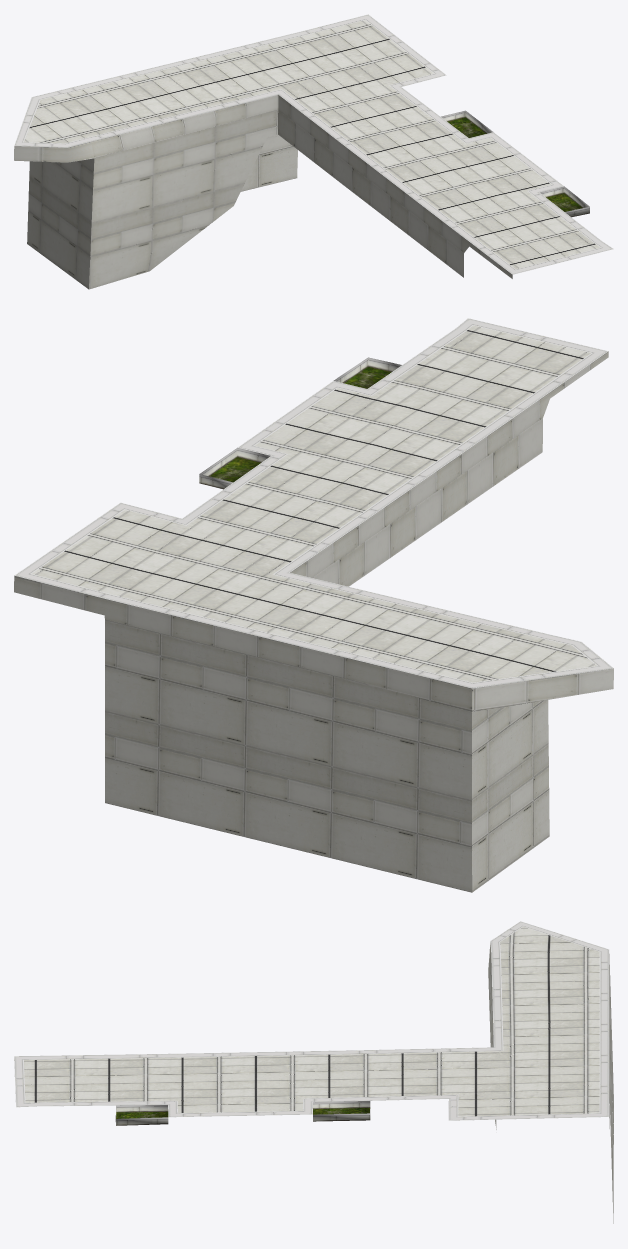
File: STA20_34.FBX
The picture shows the model from 3 angles, top to bottom: view 1: azimuth 30°, elevation 25°; view 2: azimuth 150°, elevation 25°; view 3: azimuth 270°, elevation 25°; orthographic projection. The views are drawn at different scales.
Visible parts, largest first — view 1: STA20_34; view 2: STA20_34; view 3: STA20_34.
Boxes of the visible parts, <box> form: STA20_34: <box>14,14,613,289</box>; STA20_34: <box>14,318,613,892</box>; STA20_34: <box>14,921,613,1223</box>.
Bounding box in the file's own units: 32.05 × 11.66 × 40.91.
